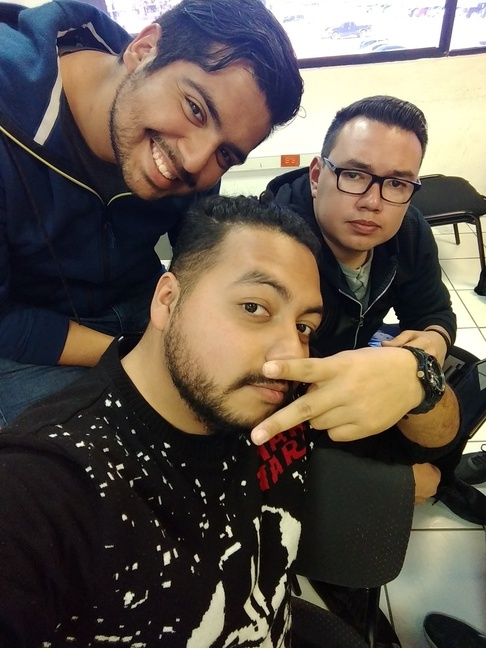Yoshi: (150, 194, 357, 466)
